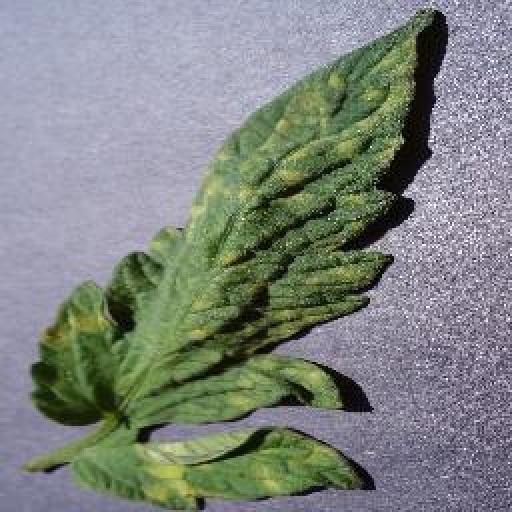disease_tomato: (30, 11, 429, 424), (78, 425, 365, 512)
